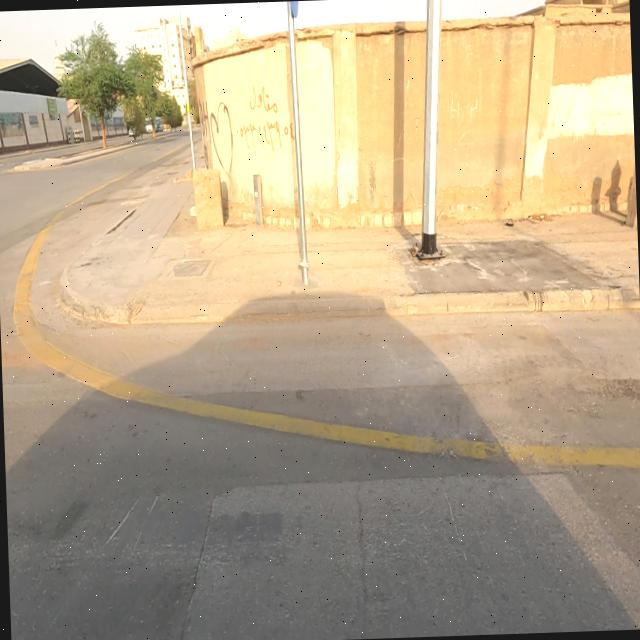Graffiti: (206, 86, 298, 180), (198, 98, 210, 168)
